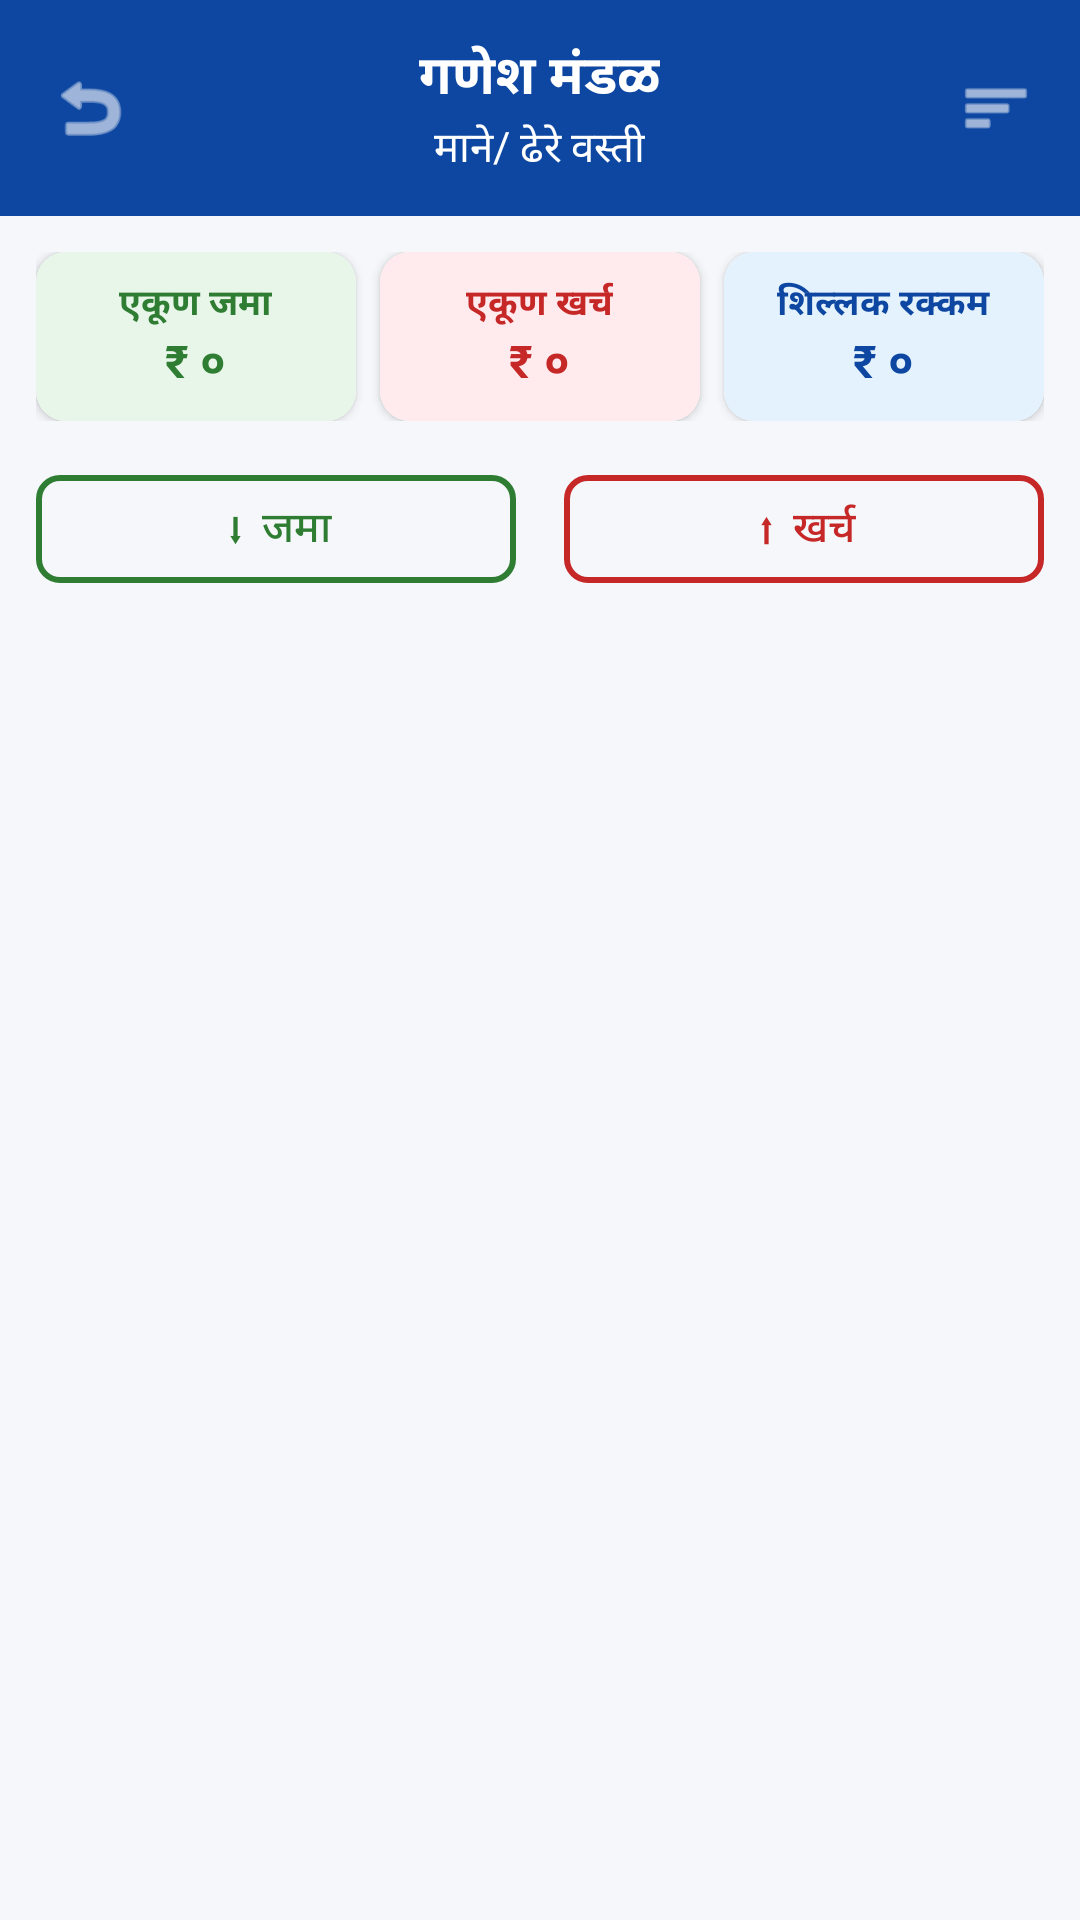

Screen size 1080 x 1920. Icon name, then its box in pixels as (x1, y1, x2, y2):
revert: (61, 81, 122, 136)
sort by size: (965, 88, 1027, 129)
